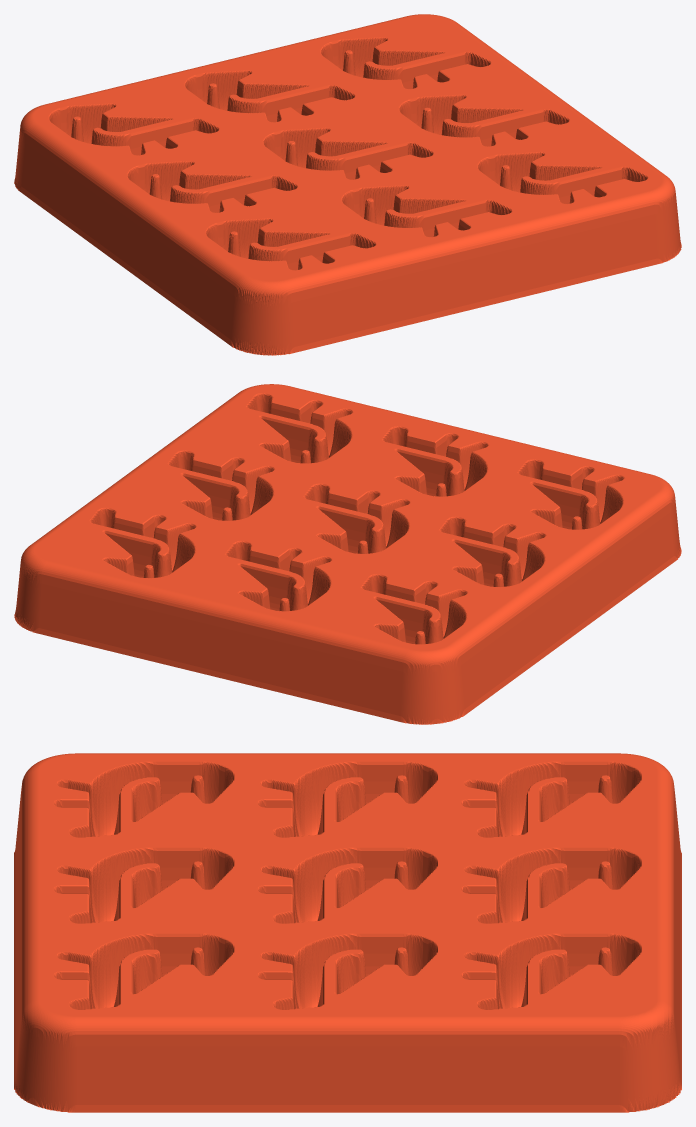
The model's file is mold.glb.
3 views of the same model, one above another, from view 1: azimuth 30°, elevation 25°; view 2: azimuth 150°, elevation 25°; view 3: azimuth 270°, elevation 25° (orthographic). The views are drawn at different scales.
Parts seen in each view (by area): view 1: geometry_0; view 2: geometry_0; view 3: geometry_0.
Part boxes in pixels (box(x1,y1,x2,y2)): geometry_0: box(14, 14, 681, 355); geometry_0: box(14, 384, 681, 724); geometry_0: box(14, 753, 681, 1112).
Bounding box in the file's own units: 0.0964 × 0.0136 × 0.0964.
